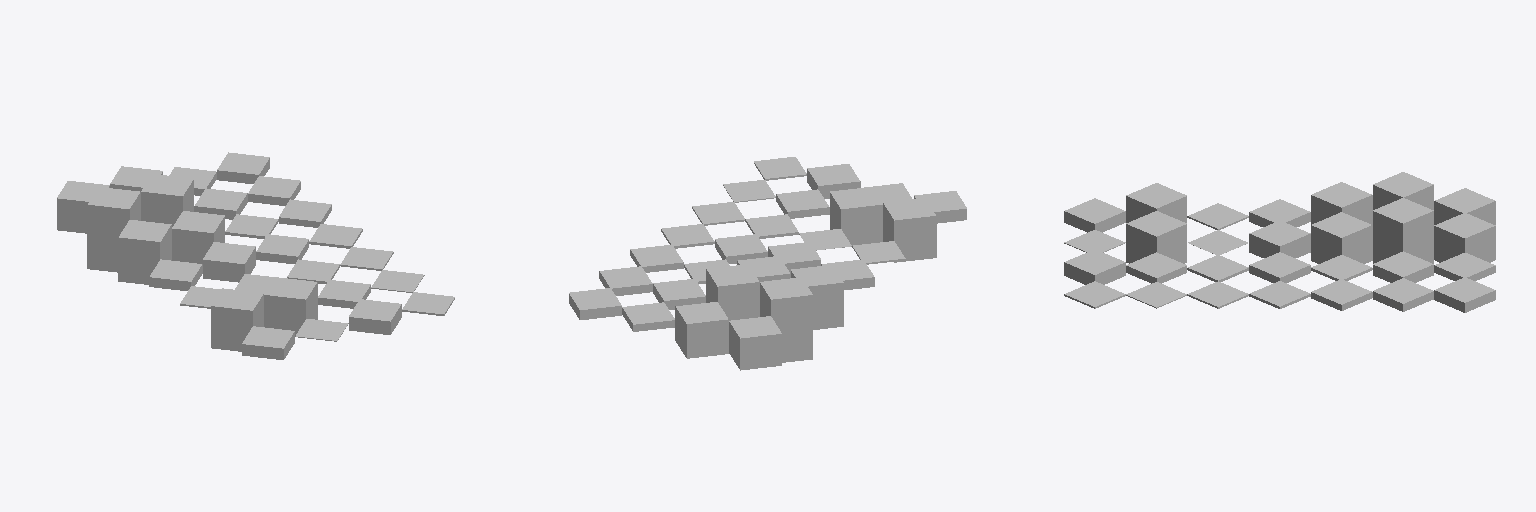
File: waves-4.obj
3 views of the same model, side by side, from view 1: azimuth 30°, elevation 25°; view 2: azimuth 150°, elevation 25°; view 3: azimuth 270°, elevation 25° (orthographic).
Visible parts, largest first — view 1: DataWave05_DataWave05Mesh.032, DataWave04_DataWave04Mesh.032, DataWave01_DataWave01Mesh.032, DataWave11_DataWave11Mesh.032, DataWave15_DataWave15Mesh.032, DataWave14_DataWave14Mesh.032, DataWave13_DataWave13Mesh.032, DataWave06_DataWave06Mesh.032, DataWave20_DataWave20Mesh.032, DataWave00_DataWave00Mesh.034, DataWave03_DataWave03Mesh.032, DataWave36_DataWave36Mesh.032 (+16 smaller); view 2: DataWave05_DataWave05Mesh.032, DataWave01_DataWave01Mesh.032, DataWave16_DataWave16Mesh.032, DataWave11_DataWave11Mesh.032, DataWave06_DataWave06Mesh.032, DataWave15_DataWave15Mesh.032, DataWave04_DataWave04Mesh.032, DataWave36_DataWave36Mesh.032, DataWave20_DataWave20Mesh.032, DataWave35_DataWave35Mesh.032, DataWave26_DataWave26Mesh.032, DataWave21_DataWave21Mesh.032 (+15 smaller); view 3: DataWave15_DataWave15Mesh.032, DataWave14_DataWave14Mesh.032, DataWave11_DataWave11Mesh.032, DataWave16_DataWave16Mesh.032, DataWave04_DataWave04Mesh.032, DataWave13_DataWave13Mesh.032, DataWave01_DataWave01Mesh.032, DataWave05_DataWave05Mesh.032, DataWave20_DataWave20Mesh.032, DataWave06_DataWave06Mesh.032, DataWave00_DataWave00Mesh.034, DataWave36_DataWave36Mesh.032 (+16 smaller).
Boxes of the visible parts, x1,y1,x2,y2 form: DataWave05_DataWave05Mesh.032: [87, 187, 140, 272]; DataWave04_DataWave04Mesh.032: [118, 220, 171, 284]; DataWave01_DataWave01Mesh.032: [211, 288, 263, 351]; DataWave11_DataWave11Mesh.032: [264, 277, 317, 335]; DataWave15_DataWave15Mesh.032: [141, 174, 193, 226]; DataWave14_DataWave14Mesh.032: [172, 211, 224, 263]; DataWave13_DataWave13Mesh.032: [203, 242, 255, 282]; DataWave06_DataWave06Mesh.032: [57, 181, 109, 233]; DataWave20_DataWave20Mesh.032: [349, 299, 401, 334]; DataWave00_DataWave00Mesh.034: [242, 326, 294, 359]; DataWave03_DataWave03Mesh.032: [149, 259, 202, 290]; DataWave36_DataWave36Mesh.032: [217, 152, 269, 183]; DataWave05_DataWave05Mesh.032: [760, 277, 812, 362]; DataWave01_DataWave01Mesh.032: [883, 198, 936, 262]; DataWave16_DataWave16Mesh.032: [675, 302, 728, 358]; DataWave11_DataWave11Mesh.032: [830, 187, 882, 247]; DataWave06_DataWave06Mesh.032: [729, 316, 781, 370]; DataWave15_DataWave15Mesh.032: [706, 264, 759, 320]; DataWave04_DataWave04Mesh.032: [791, 265, 843, 329]; DataWave36_DataWave36Mesh.032: [569, 288, 621, 319]; DataWave20_DataWave20Mesh.032: [807, 164, 860, 198]; DataWave35_DataWave35Mesh.032: [599, 266, 652, 295]; DataWave26_DataWave26Mesh.032: [622, 302, 674, 331]; DataWave21_DataWave21Mesh.032: [776, 189, 829, 218]; DataWave15_DataWave15Mesh.032: [1373, 198, 1433, 282]; DataWave14_DataWave14Mesh.032: [1311, 212, 1372, 263]; DataWave11_DataWave11Mesh.032: [1126, 211, 1186, 263]; DataWave16_DataWave16Mesh.032: [1434, 213, 1495, 262]; DataWave04_DataWave04Mesh.032: [1311, 182, 1372, 224]; DataWave13_DataWave13Mesh.032: [1249, 221, 1310, 257]; DataWave01_DataWave01Mesh.032: [1126, 183, 1186, 222]; DataWave05_DataWave05Mesh.032: [1373, 172, 1433, 209]; DataWave20_DataWave20Mesh.032: [1064, 249, 1125, 284]; DataWave06_DataWave06Mesh.032: [1434, 188, 1495, 224]; DataWave00_DataWave00Mesh.034: [1064, 198, 1125, 232]; DataWave36_DataWave36Mesh.032: [1434, 277, 1495, 312].
Bounding box in the file's own units: 8 × 2.31 × 14.